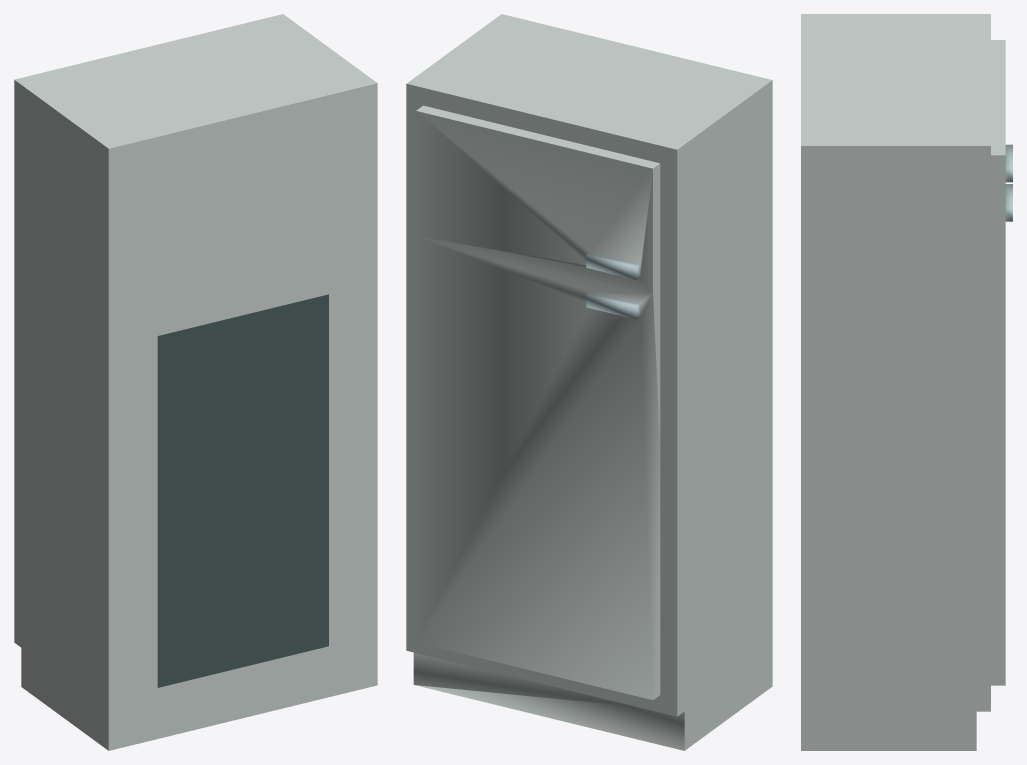
File: kitchen-fridge.glb
3 views of the same model, side by side, from view 1: azimuth 30°, elevation 25°; view 2: azimuth 150°, elevation 25°; view 3: azimuth 270°, elevation 25° (orthographic).
Parts seen in each view (by area): view 1: kitchen-fridge; view 2: kitchen-fridge; view 3: kitchen-fridge.
Part boxes in pixels (x1,y1,x2,y2): kitchen-fridge: [14, 14, 377, 750]; kitchen-fridge: [406, 14, 772, 750]; kitchen-fridge: [801, 14, 1012, 750].
Size of the model in its own units: 0.8413 by 1.8 by 0.5712.
